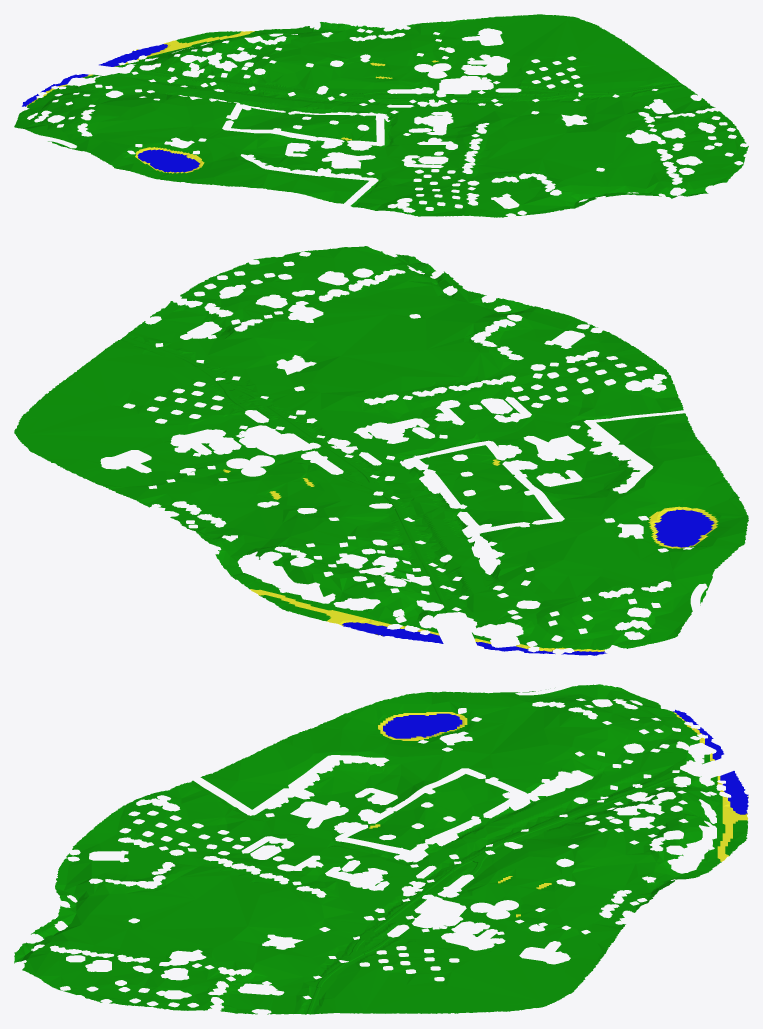
File: Vehicle.obj
3 renders of one model, top to bottom at view 1: azimuth 30°, elevation 25°; view 2: azimuth 150°, elevation 25°; view 3: azimuth 270°, elevation 25°, orthographic. The views are drawn at different scales.
Parts seen in each view (by area): view 1: ground, deepwater, water; view 2: ground, deepwater, water; view 3: ground, deepwater, water.
Boxes of the visible parts, bbox=[...] form: ground: bbox=[14, 14, 748, 217]; deepwater: bbox=[22, 44, 199, 172]; water: bbox=[26, 31, 438, 173]; ground: bbox=[14, 246, 748, 650]; deepwater: bbox=[342, 509, 714, 655]; water: bbox=[223, 459, 718, 651]; ground: bbox=[14, 684, 747, 1014]; deepwater: bbox=[383, 709, 748, 814]; water: bbox=[368, 711, 748, 917].
Bounding box in the file's own units: 613 × 15.76 × 575.
